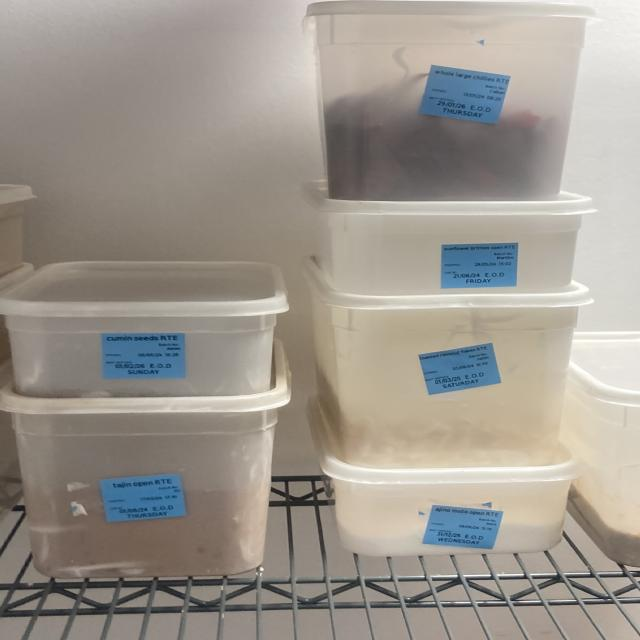product-labels: (417, 64, 515, 124), (416, 342, 504, 397), (98, 332, 192, 380), (101, 472, 187, 524), (438, 241, 520, 290), (420, 504, 504, 551)
